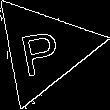P_N: (20, 21, 67, 77)
